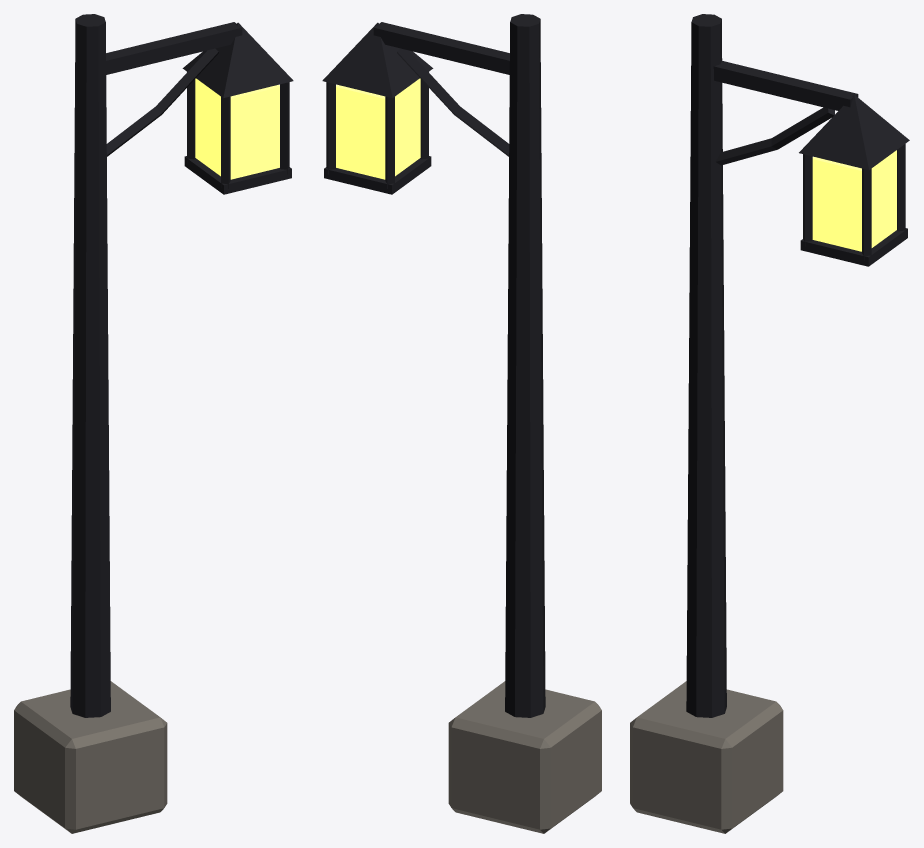
File: farol.fbx
3 renders of one model, left to right at view 1: azimuth 30°, elevation 25°; view 2: azimuth 150°, elevation 25°; view 3: azimuth 330°, elevation 25°, orthographic.
Parts seen in each view (by area): view 1: farol; view 2: farol; view 3: farol.
Boxes of the visible parts, x1=… form: farol: x1=14, y1=14, x2=293, y2=833; farol: x1=322, y1=14, x2=601, y2=833; farol: x1=630, y1=14, x2=909, y2=833.
Size of the model in its own units: 1.03 by 3.3 by 0.45.
